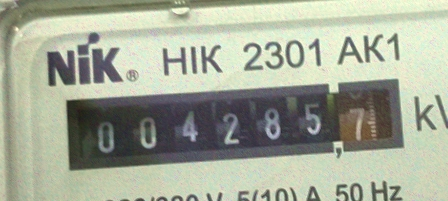0: (136, 112, 159, 150), (94, 117, 116, 153)
2: (219, 108, 240, 145)
4: (180, 107, 198, 142)
5: (300, 98, 323, 135)
7: (346, 104, 367, 141)
8: (259, 103, 282, 141)
screen: (49, 66, 419, 182)
